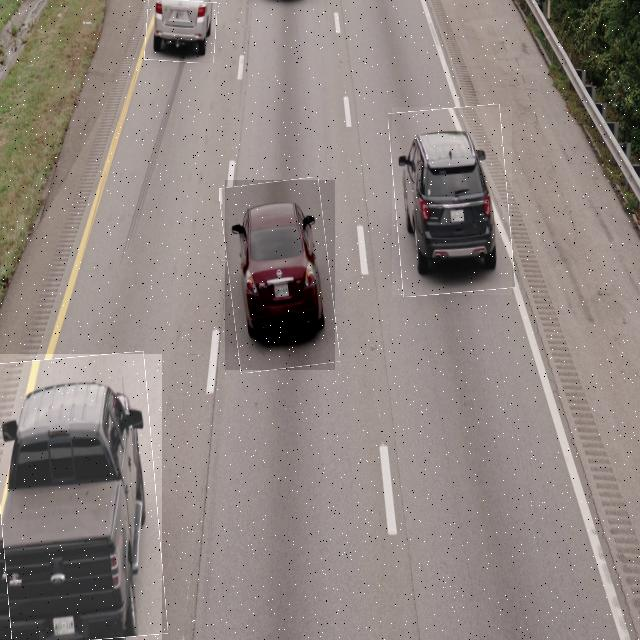Car: (392, 107, 512, 295), (225, 180, 335, 370), (144, 0, 216, 61)
Truck: (0, 354, 162, 640)
